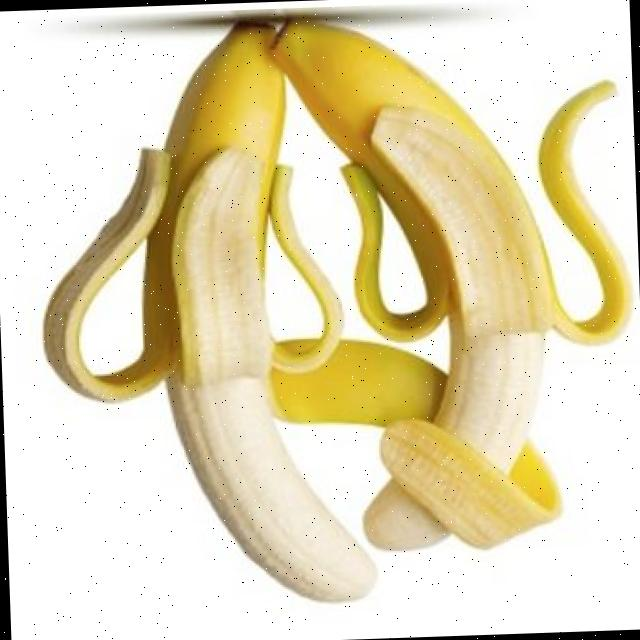Pisang: (260, 7, 640, 560), (29, 16, 377, 616)
